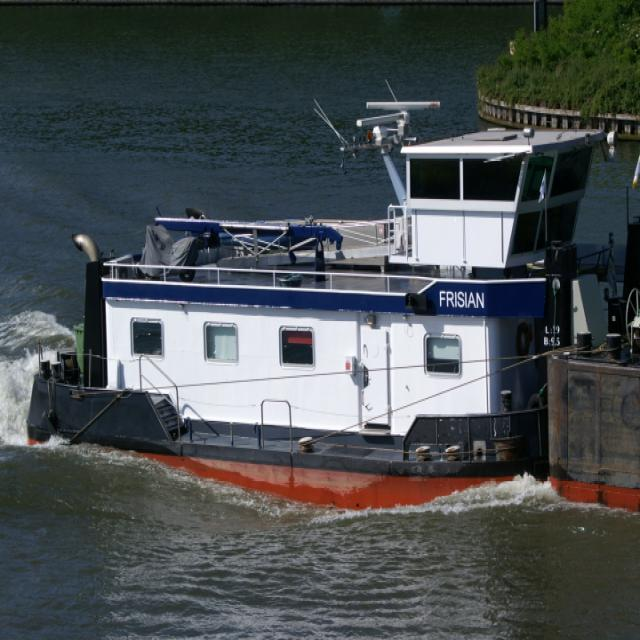tugboat: (25, 87, 640, 538)
